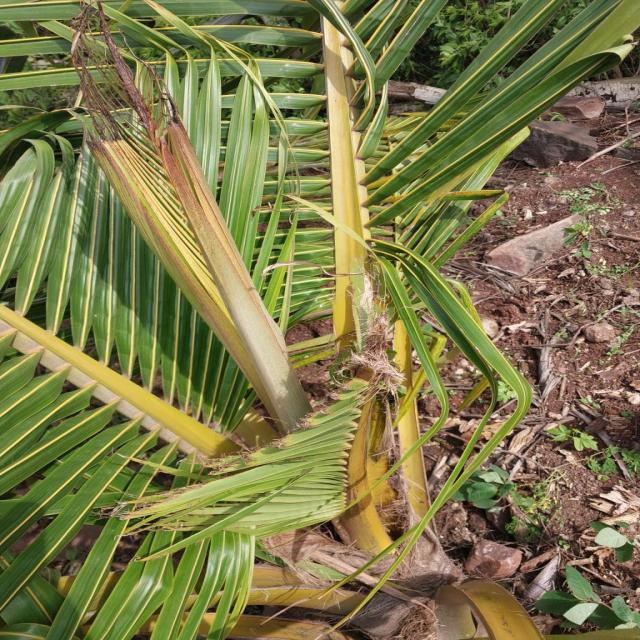bud rot: (72, 5, 312, 432)
